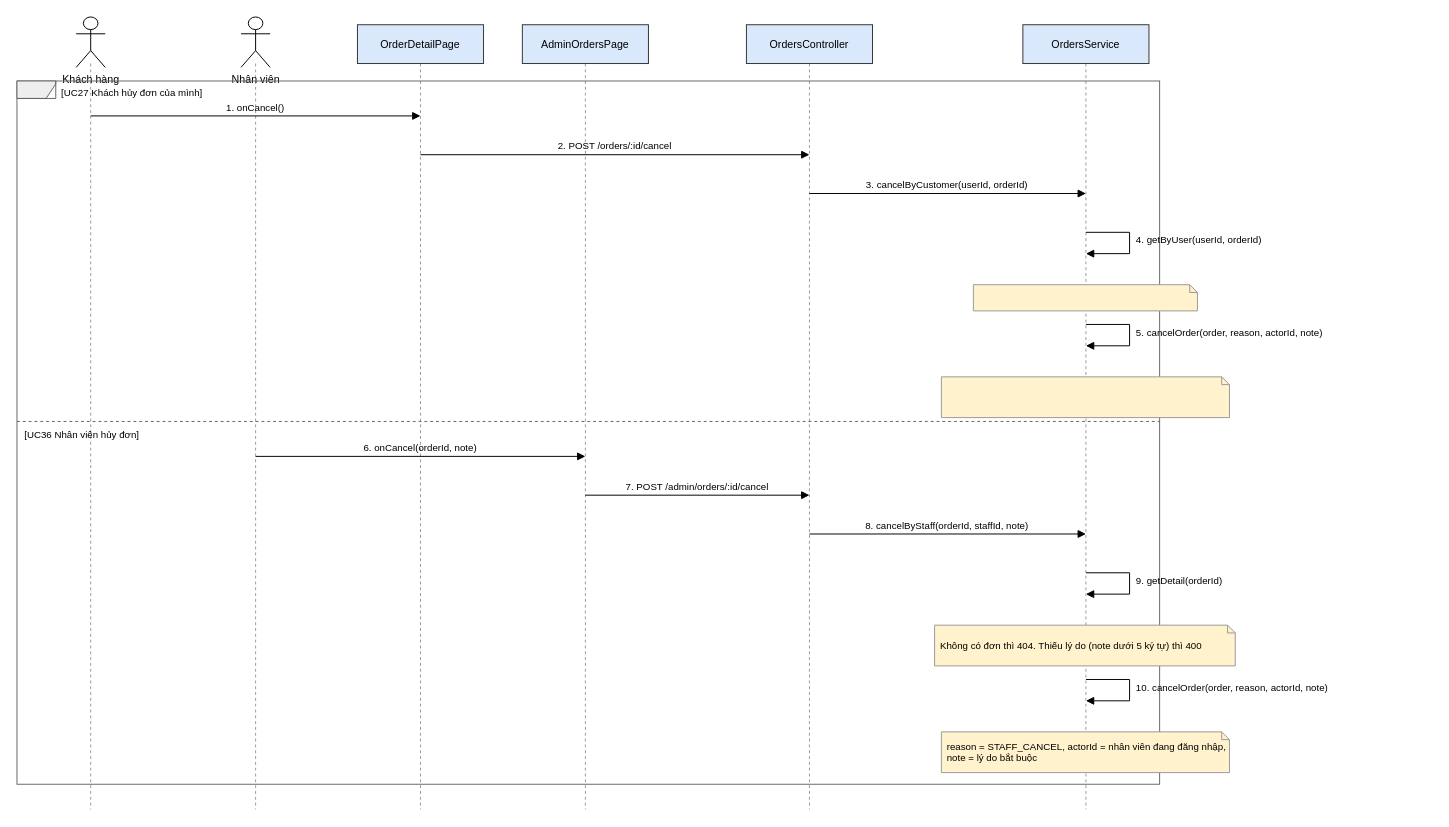
Some shapes in this 1449 by 827 pixel diagram are drawn without their labels. The shapes that lost their labels are listed below. From the top down, each one's centre as x and y in pixels, then its label:
the point at 36,89: alt
the point at 1084,297: Không phải đơn của khách thì 404
the point at 1084,397: reason = CUSTOMER_CANCEL, actorId = khách, note tùy chọn
